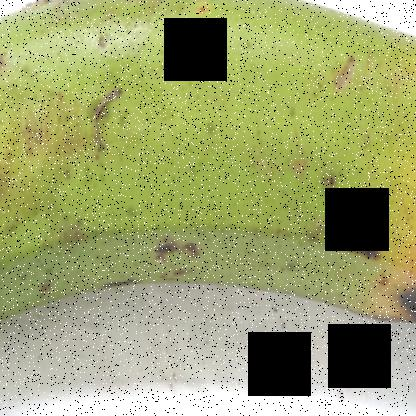rotten: (356, 1, 416, 385)
unripe: (0, 1, 356, 321)
